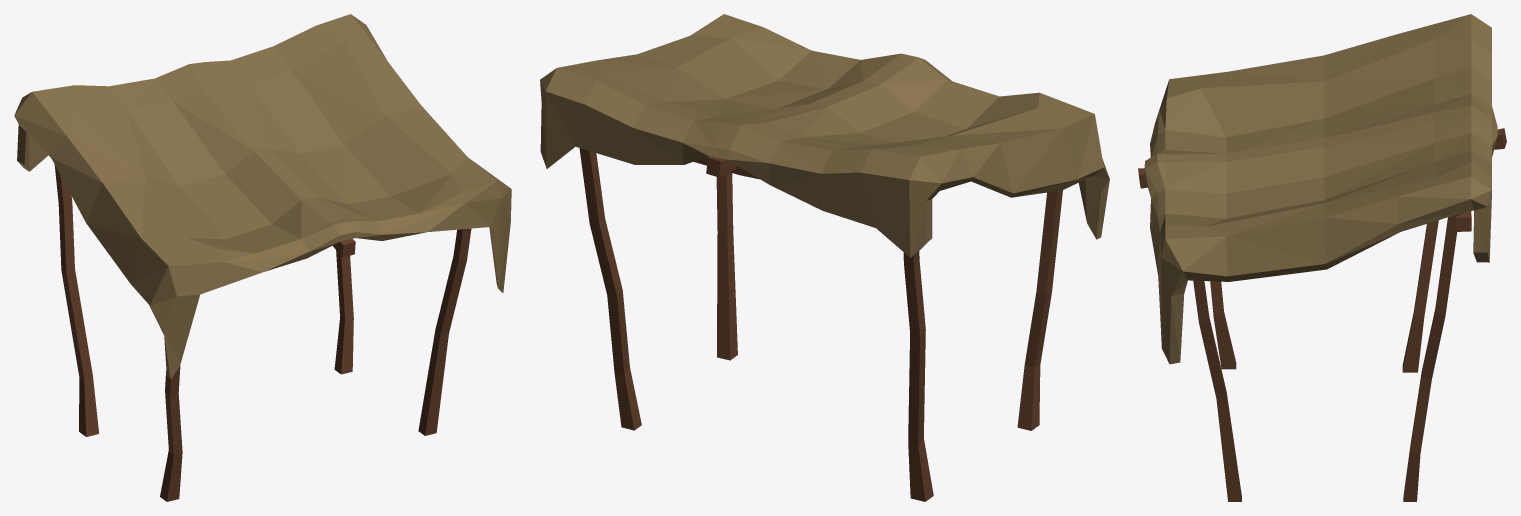
The model's file is SM_Bld_Stall_Cover_01.fbx.
3 views of the same model, side by side, from view 1: azimuth 30°, elevation 25°; view 2: azimuth 150°, elevation 25°; view 3: azimuth 270°, elevation 25° (orthographic). The views are drawn at different scales.
Visible parts, largest first — view 1: SM_Bld_Stall_Cover_01; view 2: SM_Bld_Stall_Cover_01; view 3: SM_Bld_Stall_Cover_01.
Boxes of the visible parts, x1,y1,x2,y2 form: SM_Bld_Stall_Cover_01: [14, 14, 511, 501]; SM_Bld_Stall_Cover_01: [540, 14, 1109, 501]; SM_Bld_Stall_Cover_01: [1138, 14, 1506, 501].
Size of the model in its own units: 0.0354 by 0.0305 by 0.0299.
1 material, 1 textured.
